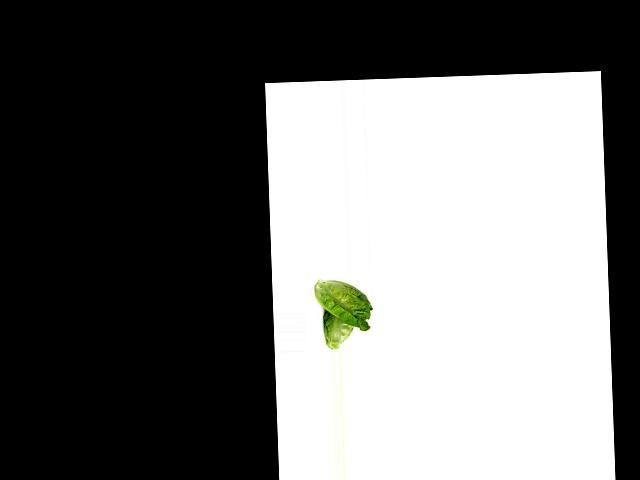lettuce: (319, 309, 356, 351)
